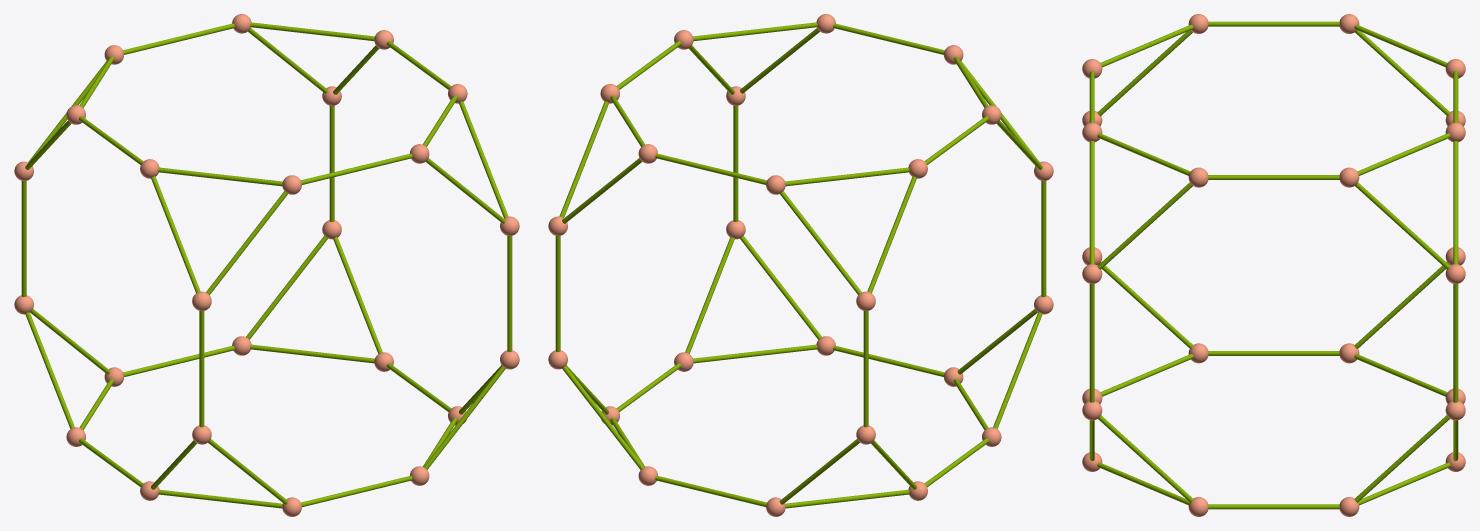
Rendered from truncated_cube.glb.
3 renders of one model, left to right at view 1: azimuth 30°, elevation 25°; view 2: azimuth 150°, elevation 25°; view 3: azimuth 270°, elevation 25°, orthographic. The views are drawn at different scales.
Size of the model in its own units: 5.73 by 5.73 by 5.73.
